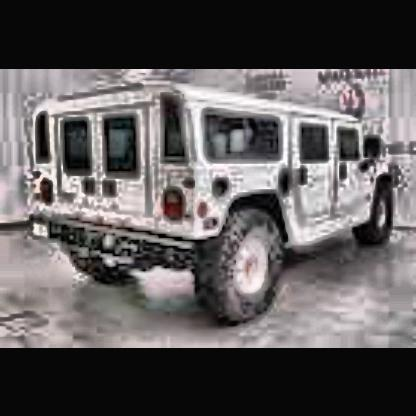AM General Hummer SUV 2000: (26, 78, 411, 330)
